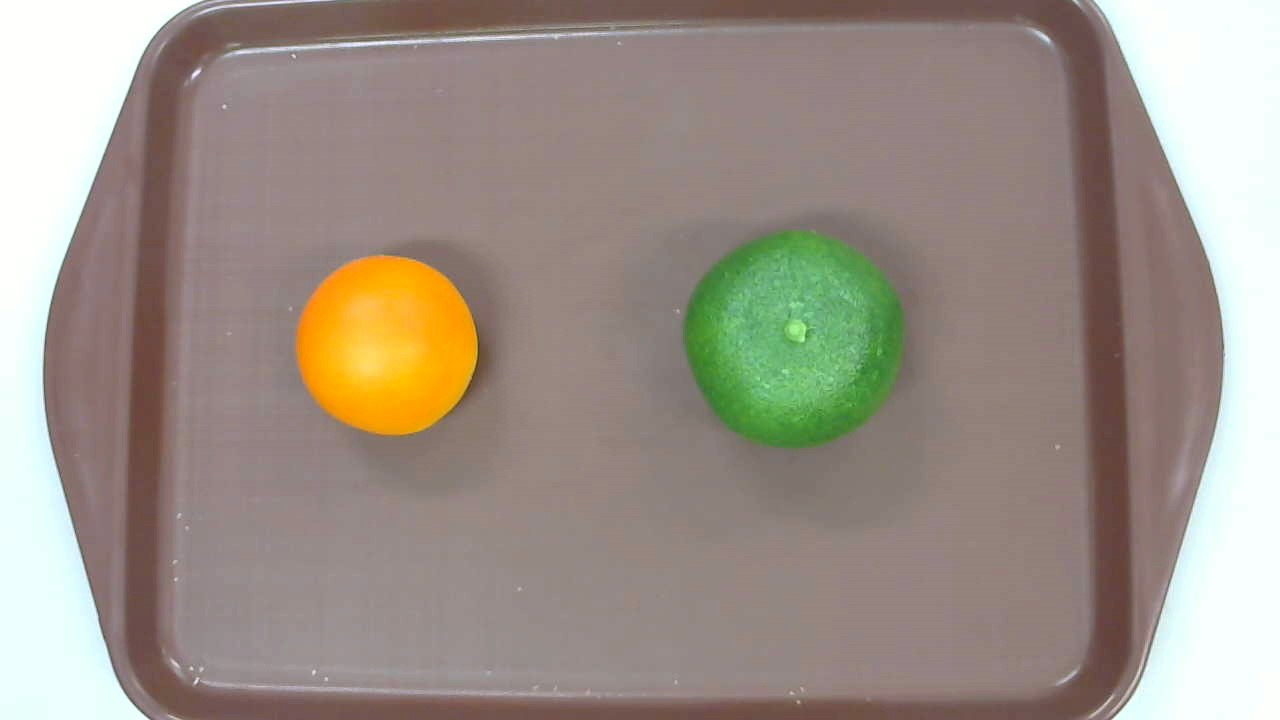bun: (295, 255, 477, 436)
green orange: (682, 230, 905, 451)
